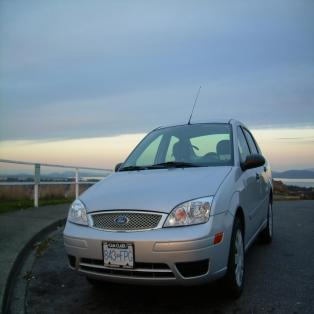Auto: (62, 120, 274, 301)
